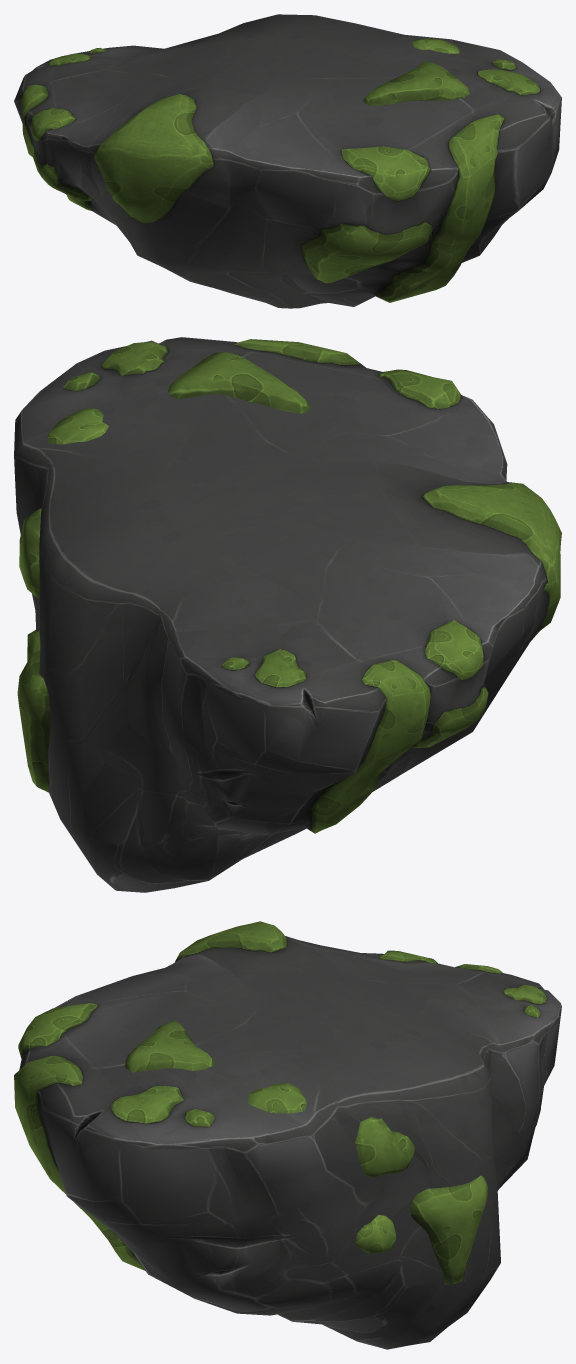
Rendered from rock6.glb.
3 renders of one model, top to bottom at view 1: azimuth 30°, elevation 25°; view 2: azimuth 150°, elevation 25°; view 3: azimuth 270°, elevation 25°, orthographic. The views are drawn at different scales.
Visible parts, largest first — view 1: node_id207; view 2: node_id207; view 3: node_id207.
Boxes of the visible parts, bbox=[...] form: node_id207: bbox=[14, 14, 561, 308]; node_id207: bbox=[14, 337, 561, 892]; node_id207: bbox=[14, 921, 561, 1349].
Size of the model in its own units: 0.1532 by 0.1051 by 0.1589.
Materials: 1 (1 with a texture image).
